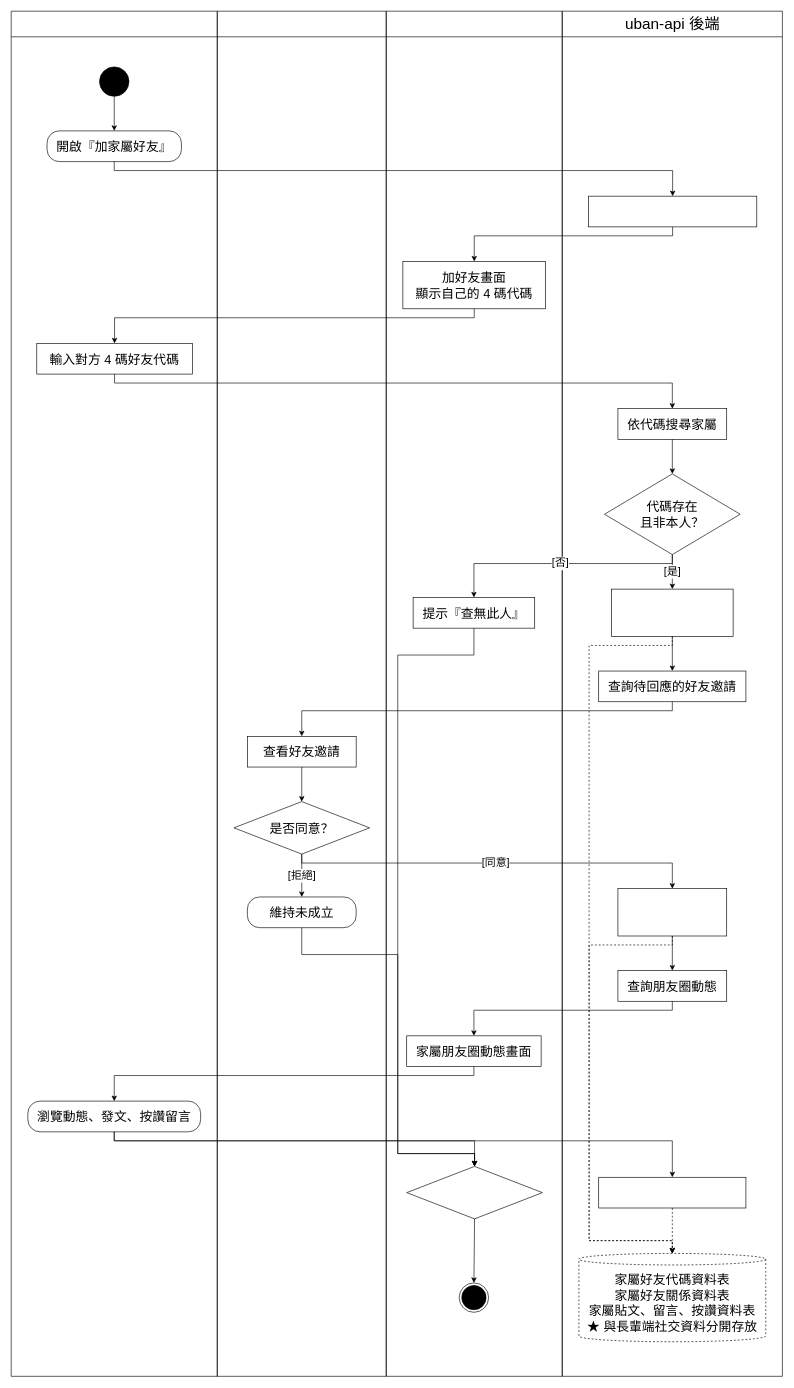
This 794x1388 diagram has some shape labels left out. Each missing label, with the box of its shape:
取得自己的 4 碼好友代碼: (588, 196, 757, 227)
同意邀請 好友關係成立: (617, 888, 727, 936)
家屬 A: (11, 11, 217, 1376)
家屬 B: (217, 11, 386, 1376)
家屬端: (386, 11, 562, 1376)
發表貼文、按讚、留言: (598, 1177, 746, 1208)
送出好友邀請 （狀態：待回應）: (611, 588, 733, 636)
